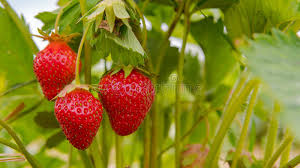ripe: (89, 62, 159, 144), (52, 83, 109, 154), (30, 32, 80, 101)
